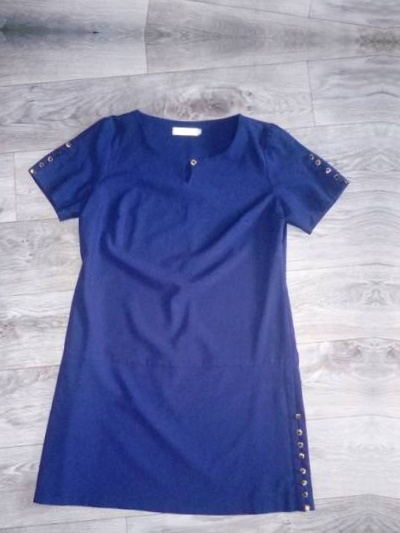Dress: (0, 67, 377, 533), (375, 79, 400, 533), (13, 0, 394, 4), (392, 0, 400, 16)
